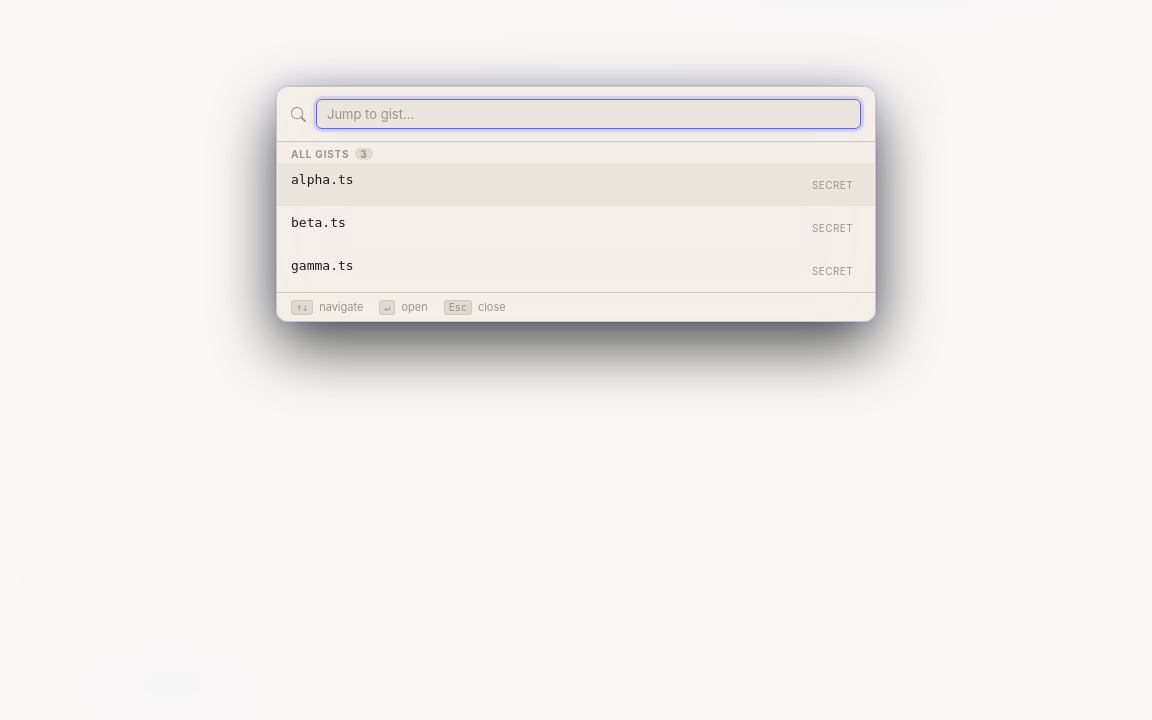
Scenario: CommandPalette › filters the list when a query is typed
In the field with placeholder "Jump to gist…": coordinates (588, 114) [316,99,861,129], type "alpha"
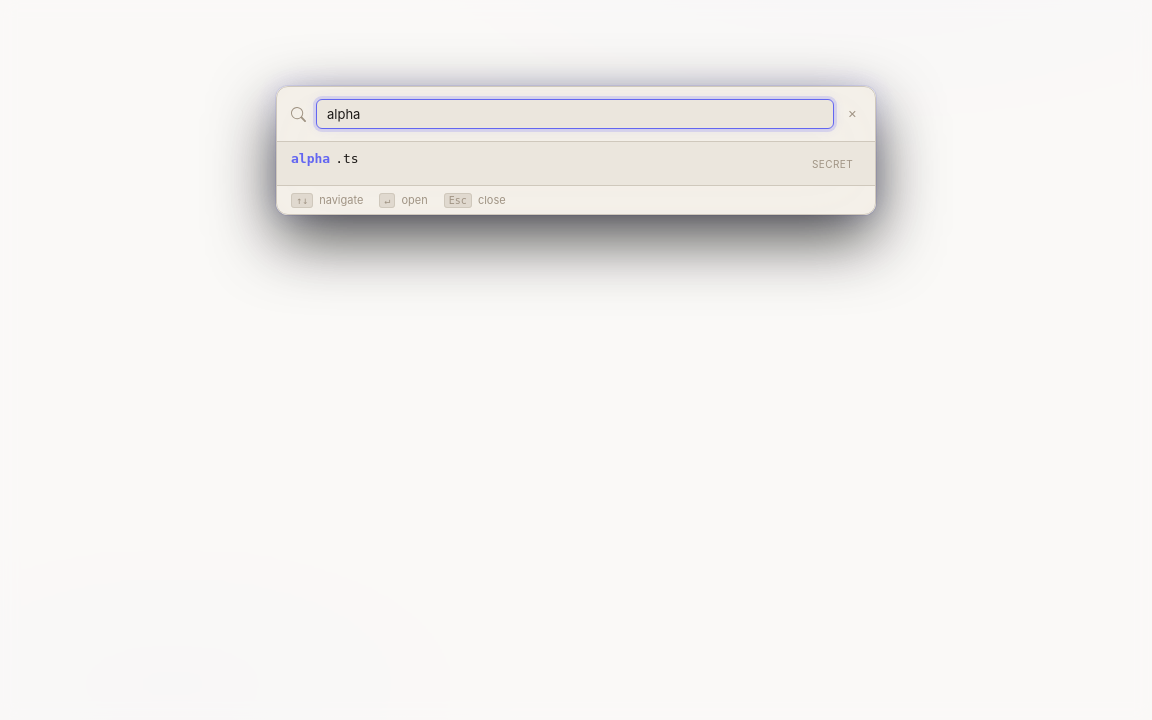
expect the number of options is 1: met, box [277,142,875,185]
expect the option "beta.ts" is gone: met
expect the option "gamma.ts" is gone: met
